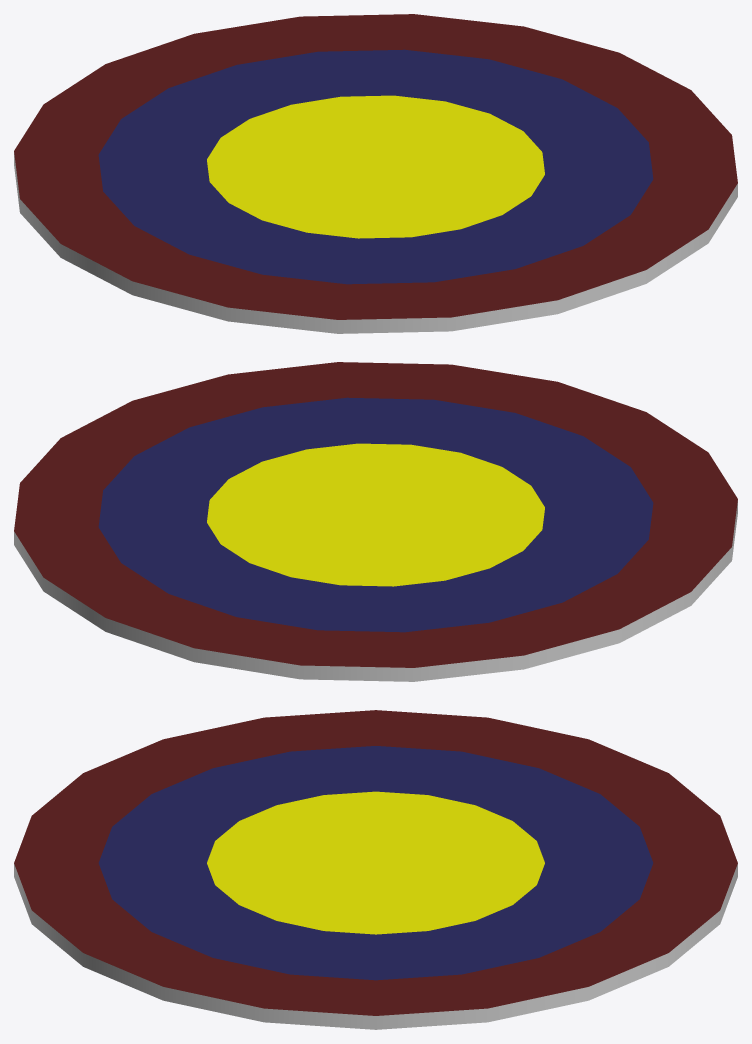
File: Plataforma Final.fbx
The picture shows the model from 3 angles, top to bottom: view 1: azimuth 30°, elevation 25°; view 2: azimuth 150°, elevation 25°; view 3: azimuth 270°, elevation 25°; orthographic projection.
Parts seen in each view (by area): view 1: pCylinder18; view 2: pCylinder18; view 3: pCylinder18.
Part boxes in pixels (<box>): pCylinder18: <box>14,14,737,333</box>; pCylinder18: <box>14,362,737,681</box>; pCylinder18: <box>14,710,737,1029</box>.
Bounding box in the file's own units: 14.36 × 0.3032 × 14.36.
